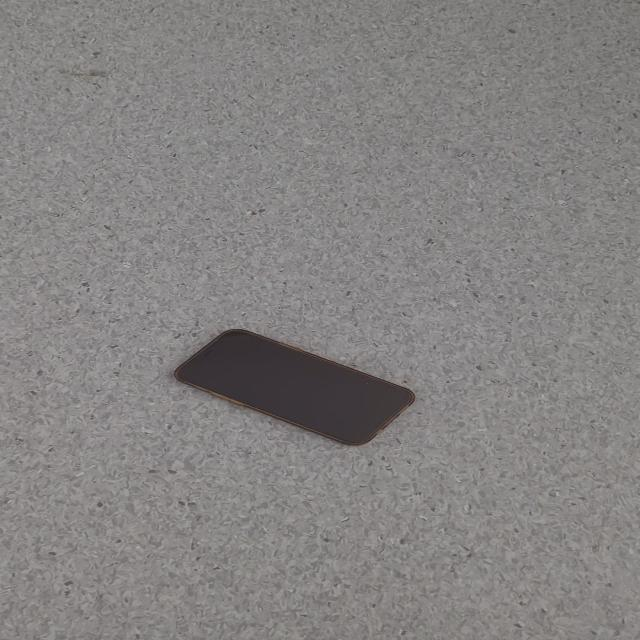phone: (172, 328, 416, 446)
